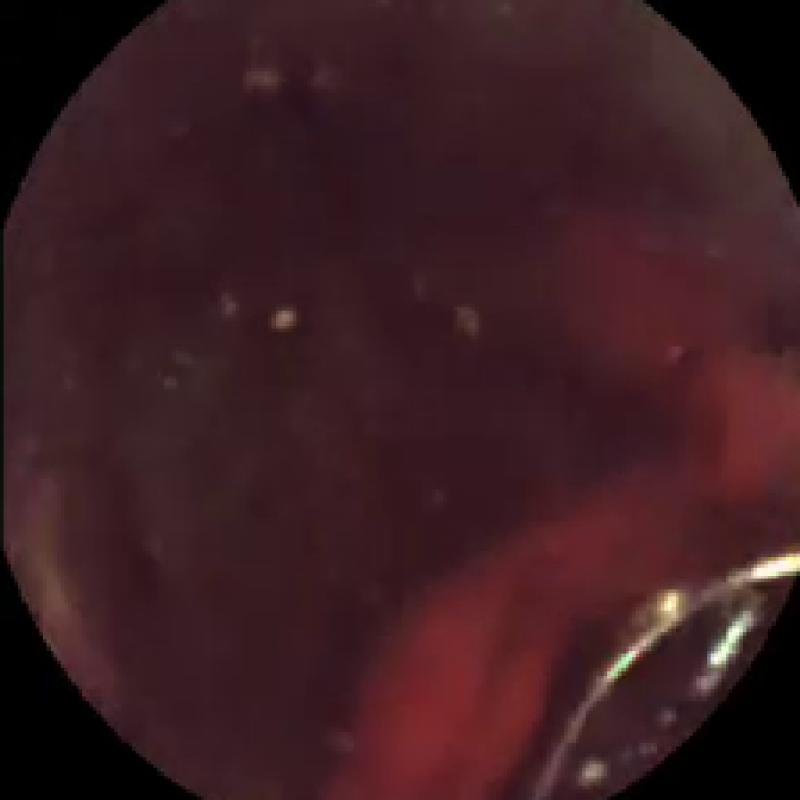bleeding: (328, 210, 800, 800)
